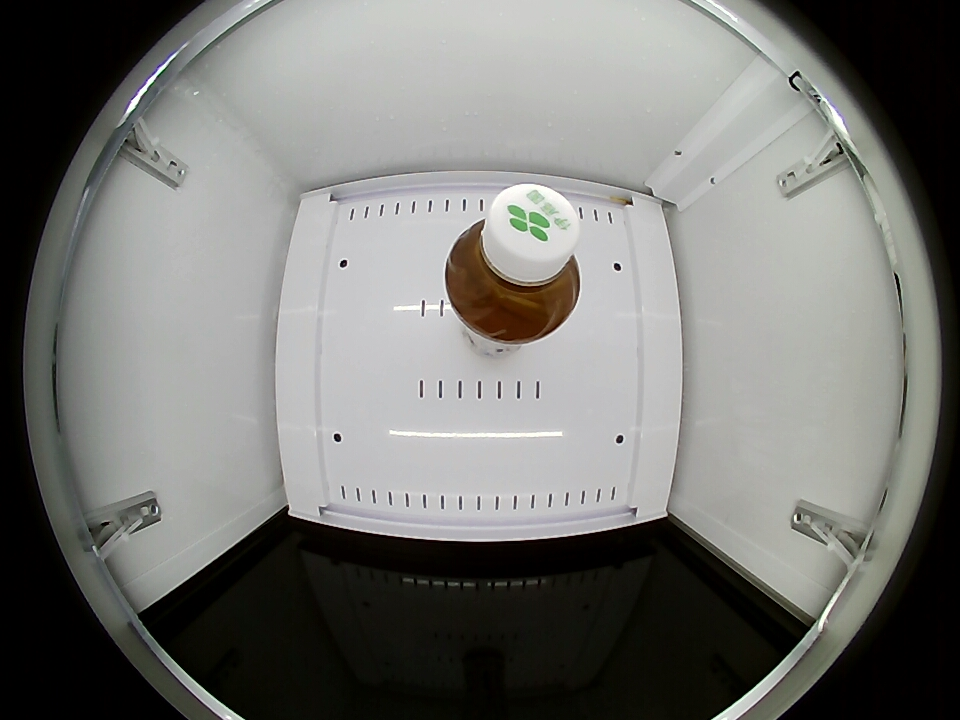baicha: (445, 183, 582, 340)
